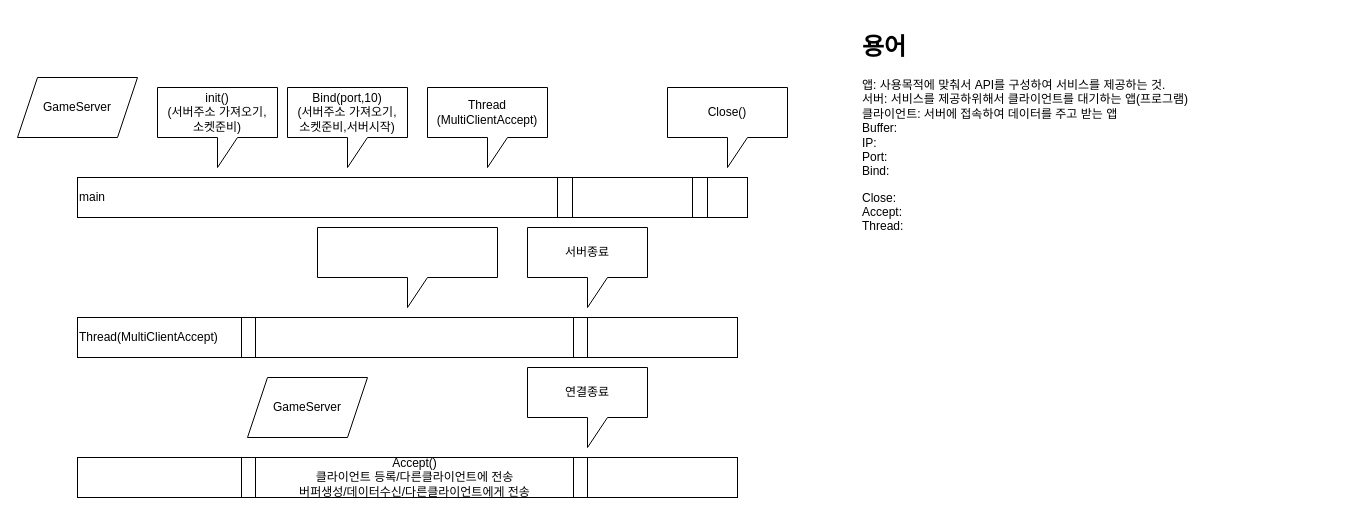
Image size: 1365x516. Some labels were removed from this diagram. Each missing label, with the box of its shape:
ClientA Thread( Accept ): (76, 456, 738, 498)
if(AcepptCount == ConnectCont) Thead(Accept): (240, 316, 588, 358)
MSG Input BroadCastMessage: (556, 176, 708, 218)
클라이언트가 접속할때 마다 Accept스레드를 생성한다.: (316, 226, 498, 308)
